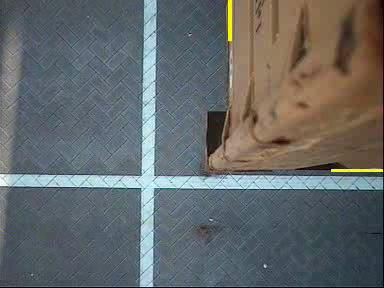groundmarker_2: (192, 156, 239, 225)
